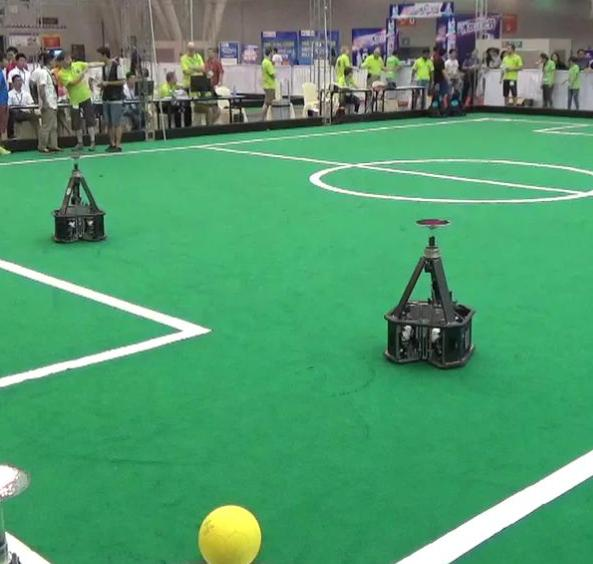robot: (384, 214, 481, 373), (46, 153, 107, 247)
